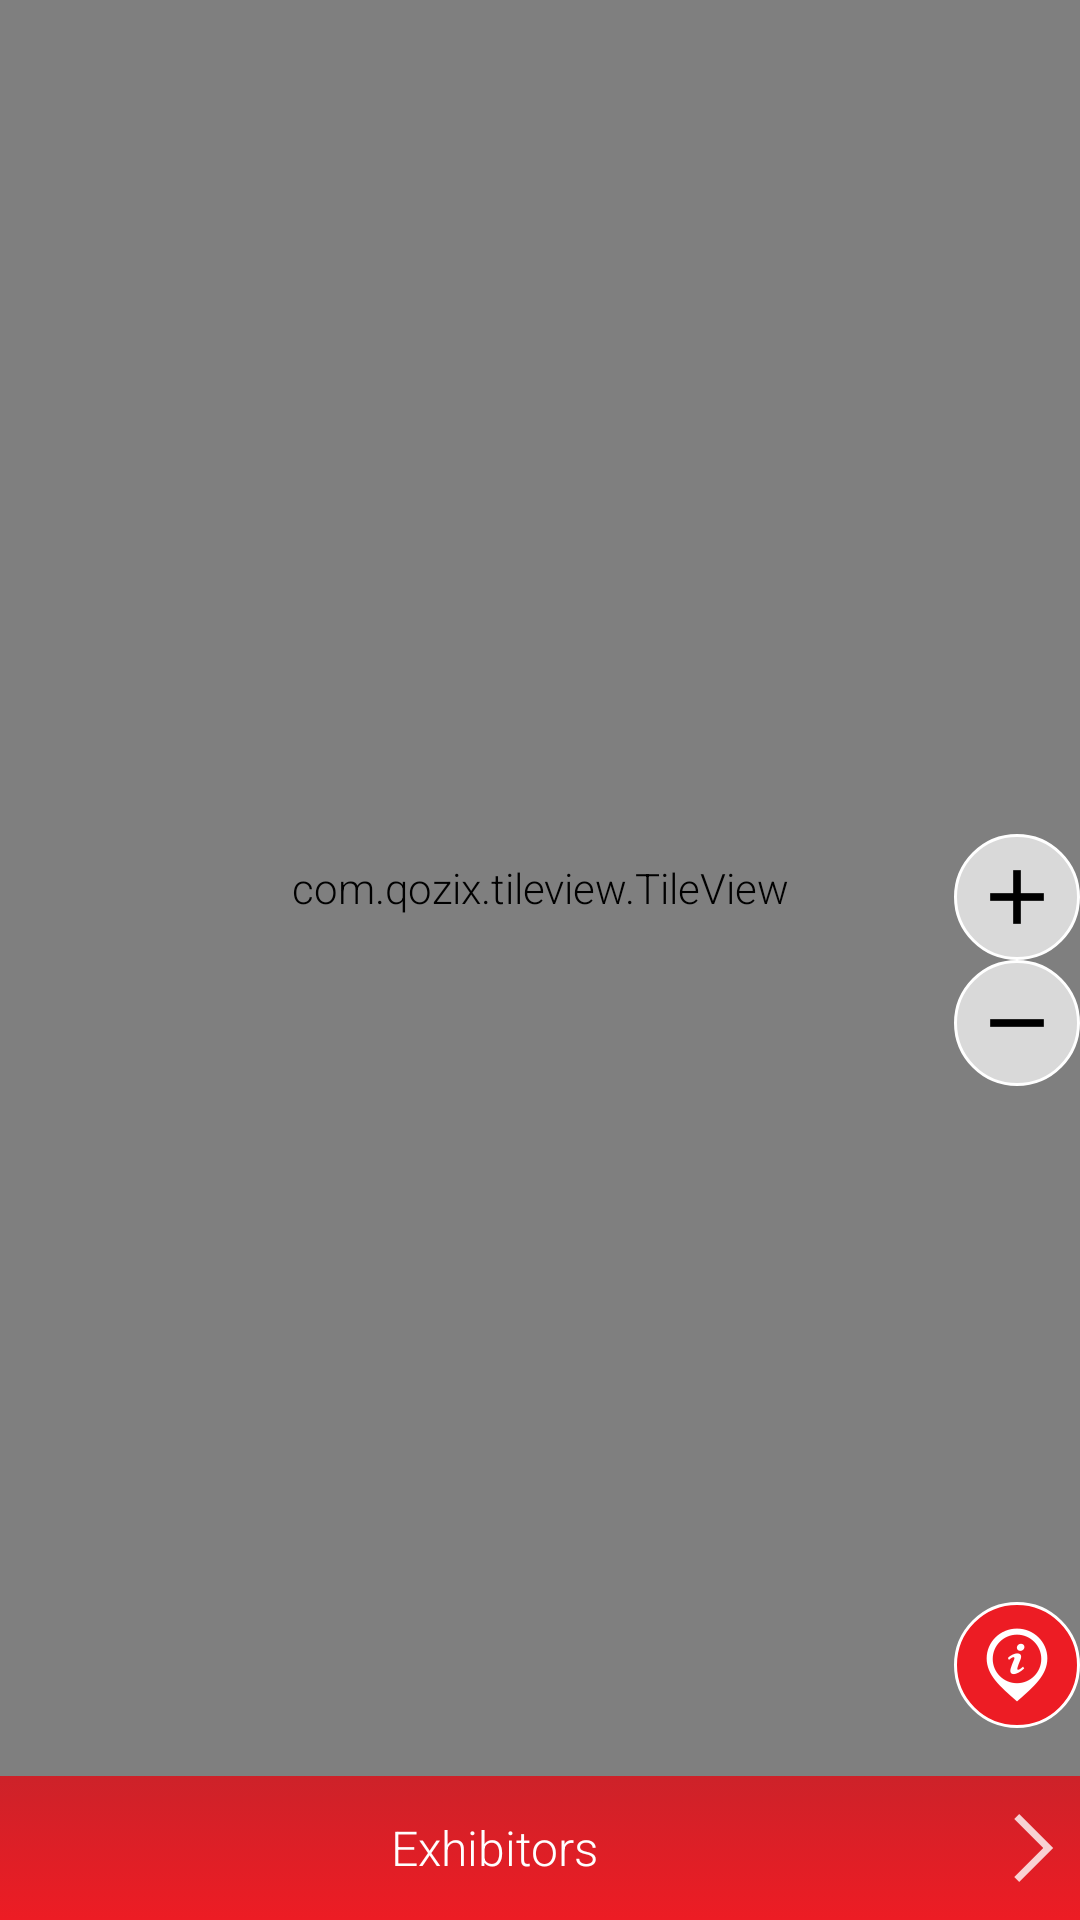

Point at icon controls on the screen. Image size 1080w x 1920h, points as (x,y).
marker: (1017,1665)
minus: (1017,1023)
plus: (1017,897)
